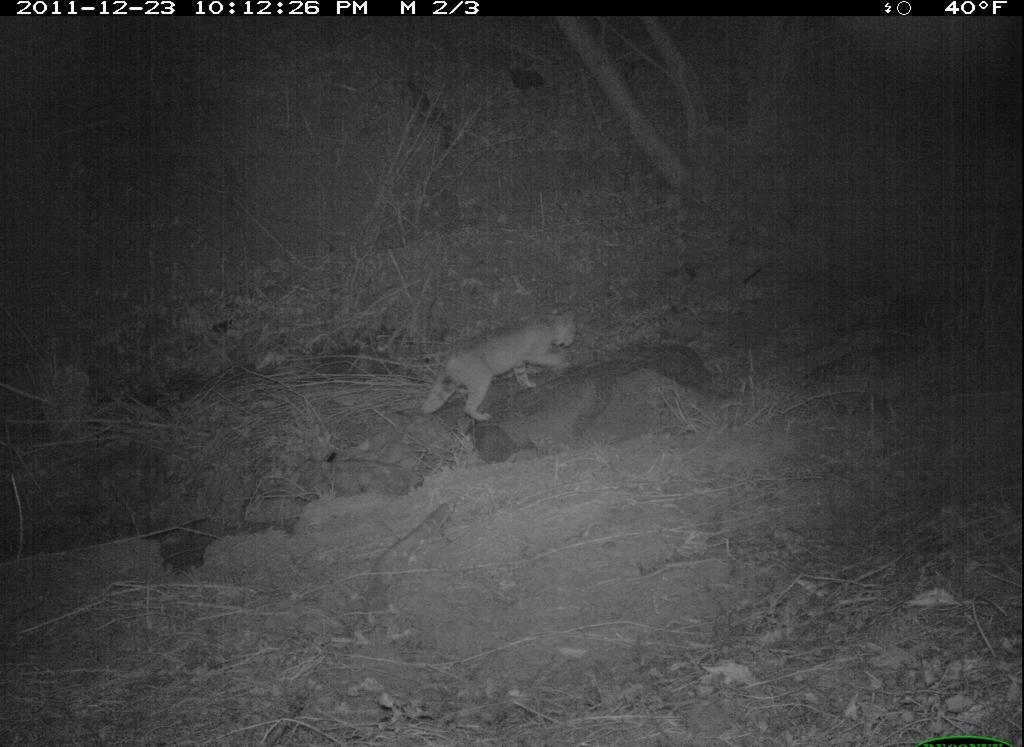bobcat: (414, 295, 592, 429)
